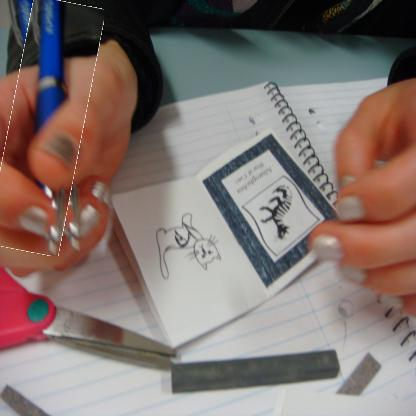Pen: (0, 0, 94, 255)
